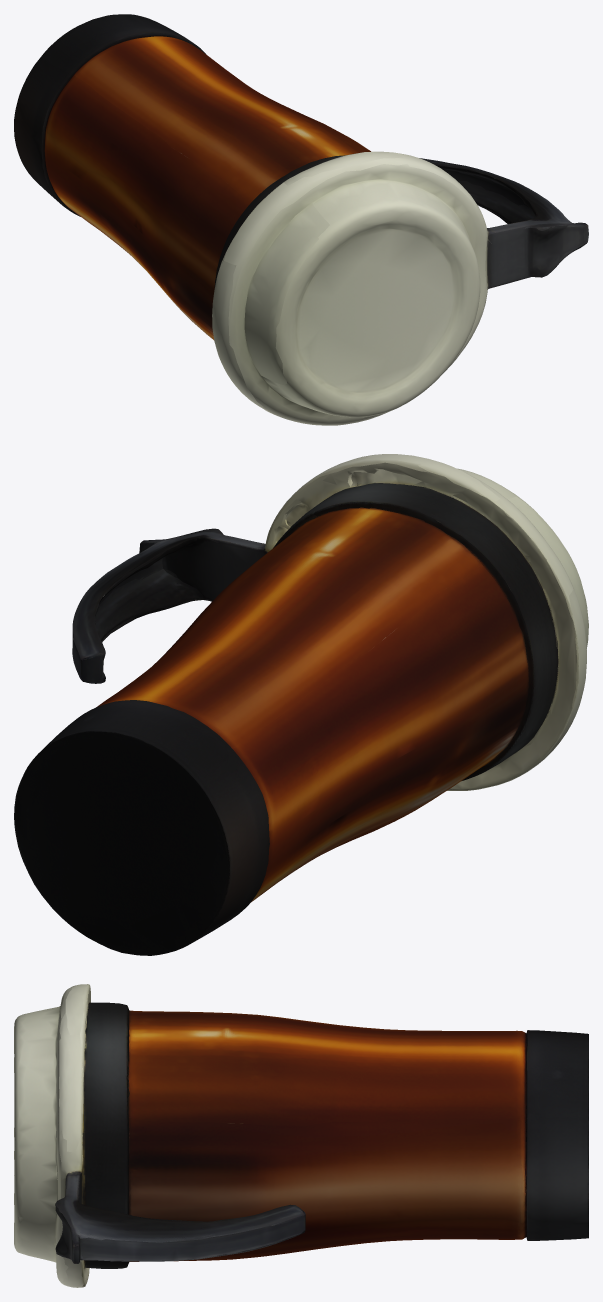
The model's file is thermos.obj.
3 renders of one model, top to bottom at view 1: azimuth 30°, elevation 25°; view 2: azimuth 150°, elevation 25°; view 3: azimuth 270°, elevation 25°, orthographic. The views are drawn at different scales.
Bounding box in the file's own units: 0.1293 × 0.0885 × 0.1701.
1 material, 1 textured.
